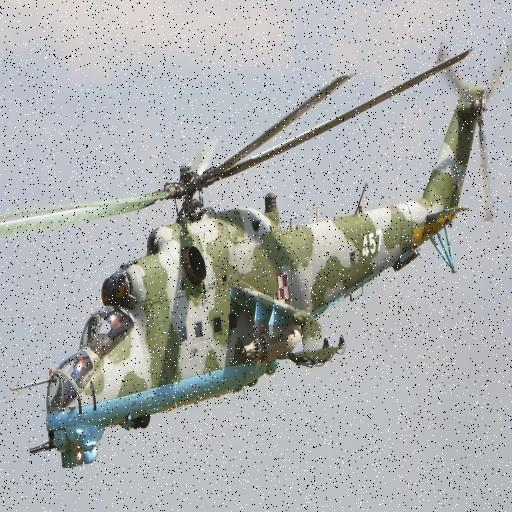helicopter: (1, 37, 512, 469)
